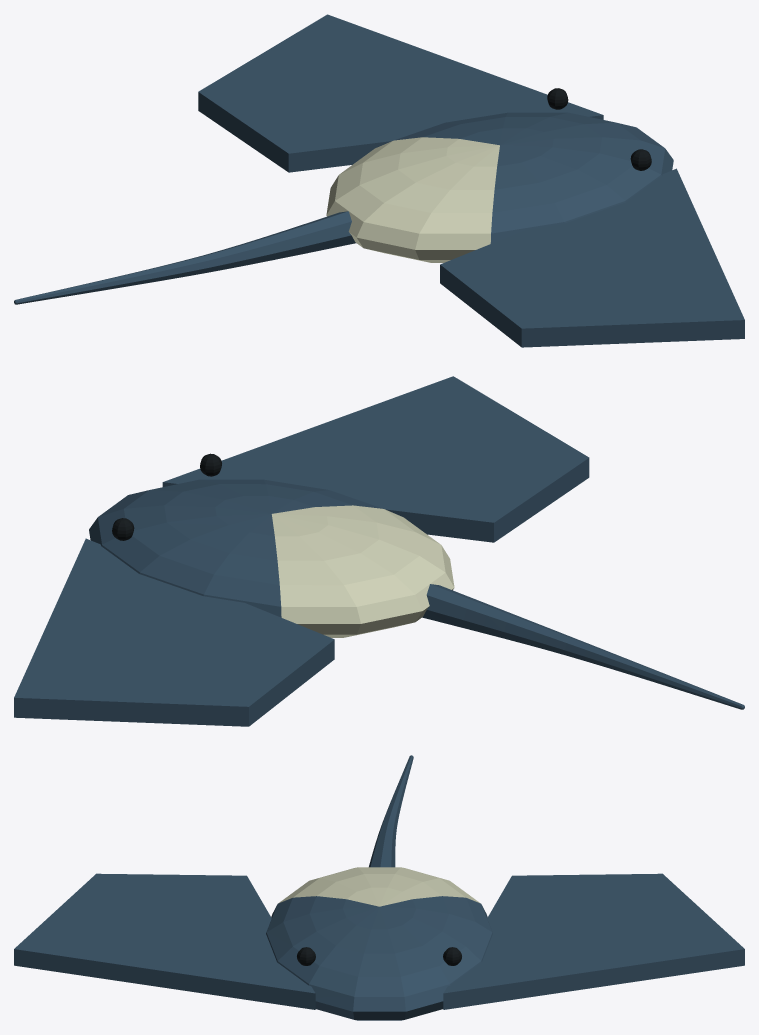
File: southern-stingray.dae
The picture shows the model from 3 angles, top to bottom: view 1: azimuth 30°, elevation 25°; view 2: azimuth 150°, elevation 25°; view 3: azimuth 270°, elevation 25°; orthographic projection. The views are drawn at different scales.
Parts seen in each view (by area): view 1: part2-node, part1-node, part0-node; view 2: part2-node, part1-node, part0-node; view 3: part2-node, part1-node, part0-node.
Boxes of the visible parts, x1=… form: part2-node: x1=14, y1=14, x2=744, y2=347; part1-node: x1=326, y1=137, x2=499, y2=262; part0-node: x1=547, y1=88, x2=651, y2=170; part2-node: x1=14, y1=376, x2=744, y2=726; part1-node: x1=271, y1=505, x2=454, y2=637; part0-node: x1=112, y1=453, x2=221, y2=540; part2-node: x1=14, y1=755, x2=744, y2=1020; part1-node: x1=278, y1=867, x2=480, y2=906; part0-node: x1=297, y1=947, x2=461, y2=965.
Size of the model in its own units: 1.8 by 2.08 by 0.2377.
